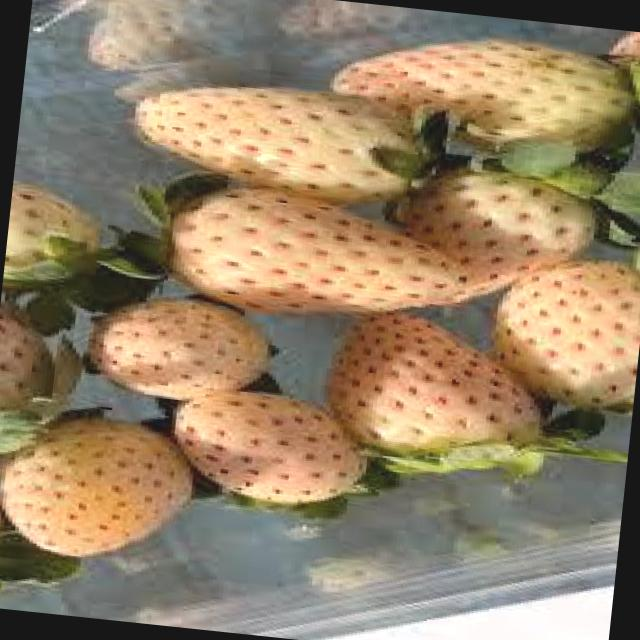Strawberry: (163, 180, 471, 332), (322, 19, 638, 161), (128, 72, 428, 211), (320, 306, 547, 467), (404, 152, 602, 324), (0, 414, 195, 566), (483, 251, 640, 413), (172, 387, 365, 511), (89, 286, 277, 411), (2, 174, 116, 297), (0, 301, 71, 454), (605, 29, 640, 79)
